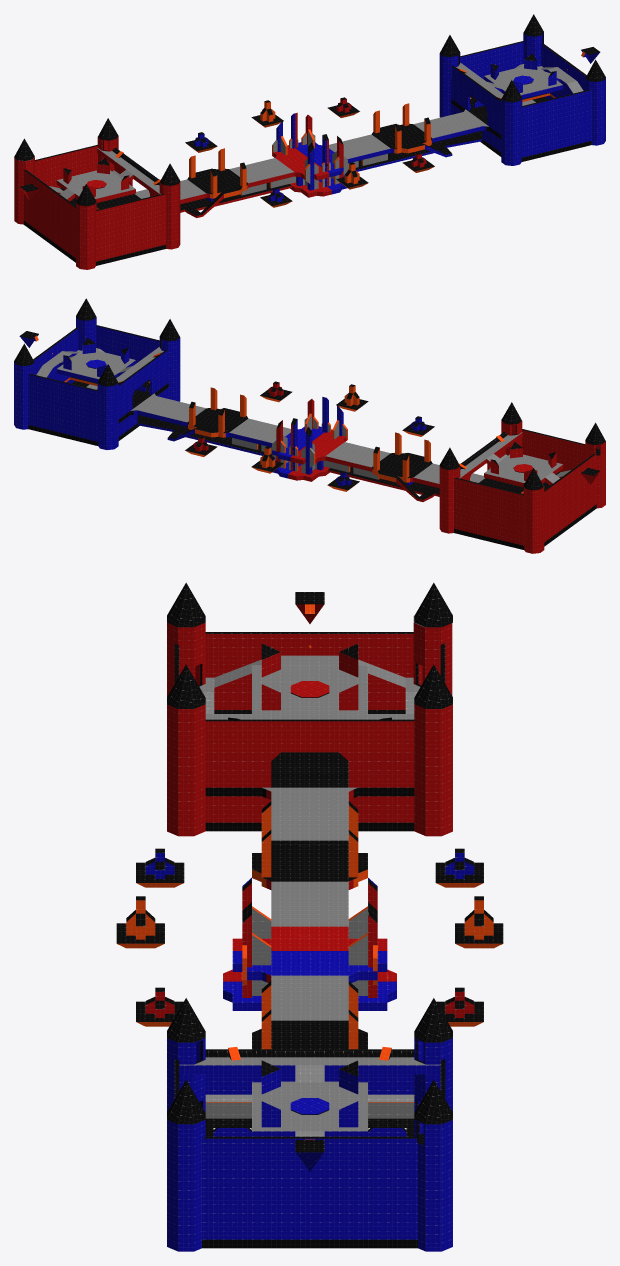
The model's file is castle_wars_pavlov_vr.glb.
The picture shows the model from 3 angles, top to bottom: view 1: azimuth 30°, elevation 25°; view 2: azimuth 150°, elevation 25°; view 3: azimuth 270°, elevation 25°; orthographic projection. The views are drawn at different scales.
Visible parts, largest first — view 1: Object_11, Object_8, Object_7, Object_9, Object_10; view 2: Object_11, Object_8, Object_7, Object_9, Object_10; view 3: Object_8, Object_11, Object_7, Object_9, Object_10.
Part boxes in pixels (box(x1,y1,x2,y2)): Object_11: box(14, 98, 426, 269); Object_8: box(193, 32, 605, 202); Object_7: box(14, 14, 605, 265); Object_9: box(49, 62, 583, 199); Object_10: box(34, 51, 585, 209); Object_11: box(193, 382, 605, 553); Object_8: box(14, 316, 426, 486); Object_7: box(14, 298, 605, 549); Object_9: box(36, 347, 570, 483); Object_10: box(34, 335, 523, 493); Object_8: box(145, 853, 474, 1251); Object_11: box(145, 604, 474, 1017); Object_7: box(116, 582, 503, 1248); Object_9: box(179, 655, 440, 1136); Object_10: box(117, 604, 502, 1139).
Bounding box in the file's own units: 137 × 18.7 × 40.
19 materials, 5 textured.
